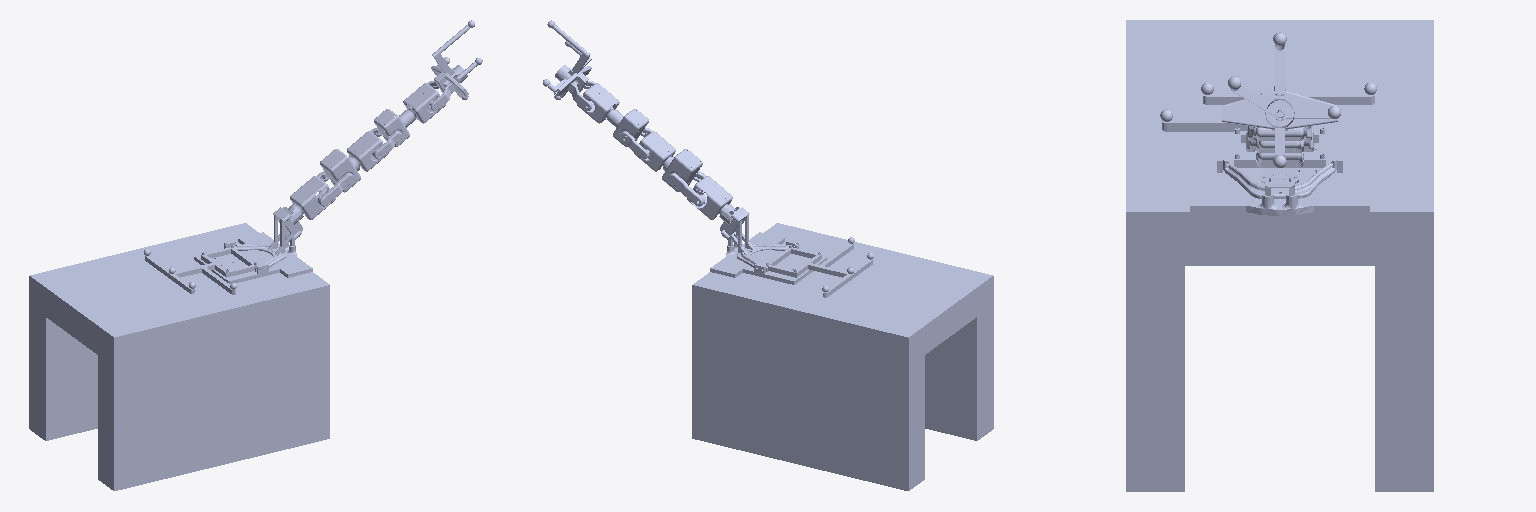
robot.urdf — LRM_ARM_testing:
<?xml version="1.0" encoding="utf-8"?>
<!-- This URDF was automatically created by SolidWorks to URDF Exporter! Originally created by [author] ([email redacted]) 
     Commit Version: 1.6.0-4-g7f85cfe  Build Version: 1.6.7995.38578
     For more information, please see http://wiki.ros.org/sw_urdf_exporter -->
<robot
  name="LRM_ARM_testing">
  <link
    name="base_link">
    <inertial>
      <origin
        xyz="-0.2251 -2.6508E-05 -0.14863"
        rpy="0 0 0" />
      <mass
        value="29.299" />
      <inertia
        ixx="0.77376"
        ixy="4.4625E-05"
        ixz="-0.0090347"
        iyy="0.93645"
        iyz="9.3075E-05"
        izz="1.0655" />
    </inertial>
    <visual>
      <origin
        xyz="0 0 0"
        rpy="0 0 0" />
      <geometry>
        <mesh
          filename="package://LRM_ARM_testing/meshes/base_link.STL" />
      </geometry>
      <material
        name="">
        <color
          rgba="0.79216 0.81961 0.93333 1" />
      </material>
    </visual>
    <collision>
      <origin
        xyz="0 0 0"
        rpy="0 0 0" />
      <geometry>
        <mesh
          filename="package://LRM_ARM_testing/meshes/base_link.STL" />
      </geometry>
    </collision>
  </link>
  <link
    name="Link1">
    <inertial>
      <origin
        xyz="-3.3011E-06 -0.0029352 0.030075"
        rpy="0 0 0" />
      <mass
        value="0.037998" />
      <inertia
        ixx="3.3124E-05"
        ixy="-2.9289E-08"
        ixz="-4.1086E-08"
        iyy="3.2572E-05"
        iyz="3.3577E-07"
        izz="1.3405E-05" />
    </inertial>
    <visual>
      <origin
        xyz="0 0 0"
        rpy="0 0 0" />
      <geometry>
        <mesh
          filename="package://LRM_ARM_testing/meshes/Link1.STL" />
      </geometry>
      <material
        name="">
        <color
          rgba="0.79216 0.81961 0.93333 1" />
      </material>
    </visual>
	    <collision>
      <origin
        xyz="0 0 0"
        rpy="0 0 0" />
      <geometry>
        <mesh
          filename="package://LRM_ARM_testing/meshes/Link1.STL" />
      </geometry>
    </collision>
  </link>
  <joint
    name="Joint1"
    type="revolute">
    <origin
      xyz="0.046139 0 0.077012"
      rpy="0 1.0472 0" />
    <parent
      link="base_link" />
    <child
      link="Link1" />
    <axis
      xyz="0 0 1" />
    <limit
      lower="-0.017453"
      upper="0.017453"
      effort="0"
      velocity="0" />
  </joint>
  <link
    name="Link2">
    <inertial>
      <origin
        xyz="-0.0023653 -0.057529 -6.7663E-05"
        rpy="0 0 0" />
      <mass
        value="0.084755" />
      <inertia
        ixx="0.00010536"
        ixy="-3.4002E-06"
        ixz="-1.7658E-09"
        iyy="5.8005E-05"
        iyz="2.508E-07"
        izz="8.0787E-05" />
    </inertial>
    <visual>
      <origin
        xyz="0 0 0"
        rpy="0 0 0" />
      <geometry>
        <mesh
          filename="package://LRM_ARM_testing/meshes/Link2.STL" />
      </geometry>
      <material
        name="">
        <color
          rgba="0.79216 0.81961 0.93333 1" />
      </material>
    </visual>
		    <collision>
      <origin
        xyz="0 0 0"
        rpy="0 0 0" />
      <geometry>
        <mesh
          filename="package://LRM_ARM_testing/meshes/Link2.STL" />
      </geometry>
    </collision>
  </link>
  <joint
    name="Joint2"
    type="revolute">
    <origin
      xyz="0 0 0.047505"
      rpy="-1.5708 0 0" />
    <parent
      link="Link1" />
    <child
      link="Link2" />
    <axis
      xyz="0 0 1" />
    <limit
      lower="-0.017453"
      upper="0.017453"
      effort="0"
      velocity="0" />
  </joint>
  <link
    name="Link3">
    <inertial>
      <origin
        xyz="0.00058212 0.0028236 0.026735"
        rpy="0 0 0" />
      <mass
        value="0.035798" />
      <inertia
        ixx="2.6633E-05"
        ixy="7.4562E-08"
        ixz="-4.3936E-07"
        iyy="2.4887E-05"
        iyz="-3.8443E-07"
        izz="1.1534E-05" />
    </inertial>
    <visual>
      <origin
        xyz="0 0 0"
        rpy="0 0 0" />
      <geometry>
        <mesh
          filename="package://LRM_ARM_testing/meshes/Link3.STL" />
      </geometry>
      <material
        name="">
        <color
          rgba="0.79216 0.81961 0.93333 1" />
      </material>
    </visual>
  </link>
  <joint
    name="Joint3"
    type="revolute">
    <origin
      xyz="0 -0.10351 0"
      rpy="1.5708 0 0" />
    <parent
      link="Link2" />
    <child
      link="Link3" />
    <axis
      xyz="0 0 -1" />
    <limit
      lower="-0.017453"
      upper="0.017453"
      effort="0"
      velocity="0" />
  </joint>
  <link
    name="Link4">
    <inertial>
      <origin
        xyz="-0.0020892 0.05153 2.7387E-05"
        rpy="0 0 0" />
      <mass
        value="0.051946" />
      <inertia
        ixx="7.0818E-05"
        ixy="1.0745E-06"
        ixz="5.3675E-09"
        iyy="3.346E-05"
        iyz="-1.5149E-08"
        izz="5.7667E-05" />
    </inertial>
    <visual>
      <origin
        xyz="0 0 0"
        rpy="0 0 0" />
      <geometry>
        <mesh
          filename="package://LRM_ARM_testing/meshes/Link4.STL" />
      </geometry>
      <material
        name="">
        <color
          rgba="0.79216 0.81961 0.93333 1" />
      </material>
    </visual>
  </link>
  <joint
    name="Joint4"
    type="revolute">
    <origin
      xyz="0 0 0.04367"
      rpy="1.5708 0 0" />
    <parent
      link="Link3" />
    <child
      link="Link4" />
    <axis
      xyz="0 0 1" />
    <limit
      lower="-0.017453"
      upper="0.017453"
      effort="0"
      velocity="0" />
  </joint>
  <link
    name="Link5">
    <inertial>
      <origin
        xyz="-0.00045301 -0.0025427 0.022586"
        rpy="0 0 0" />
      <mass
        value="0.039443" />
      <inertia
        ixx="3.4556E-05"
        ixy="5.9448E-08"
        ixz="5.6089E-07"
        iyy="3.2998E-05"
        iyz="8.195E-07"
        izz="1.1868E-05" />
    </inertial>
    <visual>
      <origin
        xyz="0 0 0"
        rpy="0 0 0" />
      <geometry>
        <mesh
          filename="package://LRM_ARM_testing/meshes/Link5.STL" />
      </geometry>
      <material
        name="">
        <color
          rgba="0.79216 0.81961 0.93333 1" />
      </material>
    </visual>
  </link>
  <joint
    name="Joint5"
    type="revolute">
    <origin
      xyz="0 0.10775 0"
      rpy="-1.5708 0 0" />
    <parent
      link="Link4" />
    <child
      link="Link5" />
    <axis
      xyz="0 0 -1" />
    <limit
      lower="-0.017453"
      upper="0.017453"
      effort="0"
      velocity="0" />
  </joint>
  <link
    name="Link6">
    <inertial>
      <origin
        xyz="-0.01124 0.06201 0.00068808"
        rpy="0 0 0" />
      <mass
        value="0.10406" />
      <inertia
        ixx="9.9848E-05"
        ixy="1.3203E-05"
        ixz="5.257E-06"
        iyy="0.00011144"
        iyz="-1.482E-06"
        izz="8.2739E-05" />
    </inertial>
    <visual>
      <origin
        xyz="0 0 0"
        rpy="0 0 0" />
      <geometry>
        <mesh
          filename="package://LRM_ARM_testing/meshes/Link6.STL" />
      </geometry>
      <material
        name="">
        <color
          rgba="0.79216 0.81961 0.93333 1" />
      </material>
    </visual>
  </link>
  <joint
    name="Joint6"
    type="revolute">
    <origin
      xyz="0 0 0.04375"
      rpy="1.5708 0 0" />
    <parent
      link="Link5" />
    <child
      link="Link6" />
    <axis
      xyz="0 0 -1" />
    <limit
      lower="-0.017453"
      upper="0.017453"
      effort="0"
      velocity="0" />
  </joint>
  <link
    name="End_effector">
    <inertial>
      <origin
        xyz="-0.01124 -0.00068808 -0.0022605"
        rpy="0 0 0" />
      <mass
        value="0.10406" />
      <inertia
        ixx="9.9848E-05"
        ixy="-5.257E-06"
        ixz="1.3203E-05"
        iyy="8.2739E-05"
        iyz="1.482E-06"
        izz="0.00011144" />
    </inertial>
    <visual>
      <origin
        xyz="0 0 0"
        rpy="0 0 0" />
      <geometry>
        <mesh
          filename="package://LRM_ARM_testing/meshes/End_effector.STL" />
      </geometry>
      <material
        name="">
        <color
          rgba="0.79216 0.81961 0.93333 1" />
      </material>
    </visual>
    <collision>
      <origin
        xyz="0 0 0"
        rpy="0 0 0" />
      <geometry>
        <mesh
          filename="package://LRM_ARM_testing/meshes/End_effector.STL" />
      </geometry>
    </collision>
  </link>
  <joint
    name="End_effector"
    type="fixed">
    <origin
      xyz="0 0.06427 0"
      rpy="-1.5708 0 0" />
    <parent
      link="Link6" />
    <child
      link="End_effector" />
    <axis
      xyz="0 0 0" />
  </joint>
</robot>

--- Facts derived from the render (not from the file) ---
Views: 3 orthographic renders of the robot side by side, from view 1: azimuth 30°, elevation 25°; view 2: azimuth 150°, elevation 25°; view 3: azimuth 270°, elevation 25°.
Model LRM_ARM_testing with 8 links and 7 joints (6 revolute, 1 fixed), rooted at base_link, posed all joints at 0.
Links seen in each view (by area): view 1: base_link, Link2, Link4, End_effector, Link1, Link5, Link3; view 2: base_link, Link2, Link4, End_effector, Link1, Link5, Link3, Link6; view 3: base_link, End_effector, Link6, Link2.
Boxes of the visible links, left/top/right/bottom form: base_link: left=29, top=204, right=329, bottom=490; Link2: left=317, top=149, right=360, bottom=206; Link4: left=370, top=109, right=415, bottom=159; End_effector: left=428, top=20, right=482, bottom=110; Link1: left=290, top=176, right=335, bottom=219; Link5: left=403, top=83, right=445, bottom=123; Link3: left=347, top=131, right=388, bottom=171; base_link: left=692, top=204, right=993, bottom=490; Link2: left=662, top=149, right=705, bottom=206; Link4: left=607, top=109, right=652, bottom=159; End_effector: left=543, top=20, right=594, bottom=110; Link1: left=687, top=176, right=732, bottom=219; Link5: left=577, top=83, right=619, bottom=123; Link3: left=634, top=131, right=675, bottom=171; Link6: left=545, top=24, right=595, bottom=110; base_link: left=1126, top=20, right=1433, bottom=491; End_effector: left=1222, top=32, right=1340, bottom=167; Link6: left=1225, top=36, right=1339, bottom=166; Link2: left=1246, top=131, right=1313, bottom=162.
Size in the robot's own frame: 0.9323 by 0.34 by 0.7559 metres.
8 mesh visuals loaded from 8 distinct referenced files (8 binary STL).